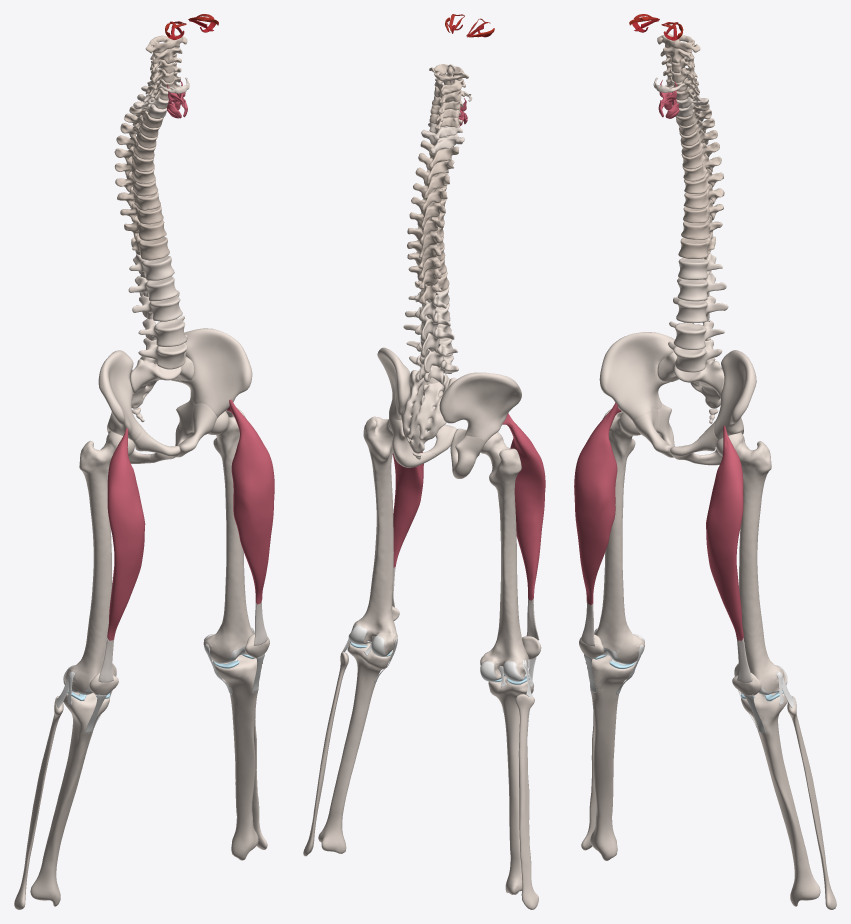
Rendered from musculoskeletal-meshopt.glb.
3 renders of one model, left to right at view 1: azimuth 30°, elevation 25°; view 2: azimuth 150°, elevation 25°; view 3: azimuth 330°, elevation 25°, orthographic. The views are drawn at different scales.
Visible parts, largest first — view 1: VH_M_femur_R, VH_M_rectus_femoris_L, VH_M_rectus_femoris_R, VH_M_femur_L, VH_M_tibia_L, VH_M_ilium_compact_bone_L, VH_M_tibia_R, VH_M_ilium_compact_bone_R, VH_M_sacrum, VH_M_fibula_R, VH_M_lumbar_vertebra_4, VH_M_pubis_compact_bone_L (+11 smaller); view 2: VH_M_femur_R, VH_M_femur_L, VH_M_ilium_compact_bone_R, VH_M_tibia_L, VH_M_rectus_femoris_R, VH_M_tibia_R, VH_M_sacrum, VH_M_fibula_R, VH_M_rectus_femoris_L, VH_M_ilium_compact_bone_L, VH_M_fibula_L, VH_M_ischium_compact_bone_L (+7 smaller); view 3: VH_M_femur_L, VH_M_rectus_femoris_R, VH_M_rectus_femoris_L, VH_M_femur_R, VH_M_ilium_compact_bone_R, VH_M_tibia_R, VH_M_tibia_L, VH_M_ilium_compact_bone_L, VH_M_sacrum, VH_M_fibula_L, VH_M_lumbar_vertebra_4, VH_M_lumbar_vertebra_5 (+10 smaller).
Part boxes in pixels (left/top/right/bottom): VH_M_femur_R: left=64, top=431, right=134, bottom=691; VH_M_rectus_femoris_L: left=227, top=399, right=274, bottom=604; VH_M_rectus_femoris_R: left=107, top=428, right=145, bottom=640; VH_M_femur_L: left=203, top=408, right=253, bottom=662; VH_M_tibia_L: left=213, top=655, right=261, bottom=860; VH_M_ilium_compact_bone_L: left=171, top=328, right=252, bottom=417; VH_M_tibia_R: left=30, top=692, right=109, bottom=906; VH_M_ilium_compact_bone_R: left=98, top=350, right=142, bottom=440; VH_M_sacrum: left=129, top=352, right=194, bottom=408; VH_M_fibula_R: left=14, top=696, right=63, bottom=909; VH_M_lumbar_vertebra_4: left=138, top=316, right=186, bottom=346; VH_M_pubis_compact_bone_L: left=176, top=403, right=217, bottom=457; VH_M_femur_R: left=480, top=432, right=528, bottom=677; VH_M_femur_L: left=352, top=416, right=397, bottom=654; VH_M_ilium_compact_bone_R: left=439, top=372, right=521, bottom=441; VH_M_tibia_L: left=318, top=642, right=391, bottom=853; VH_M_rectus_femoris_R: left=502, top=413, right=545, bottom=600; VH_M_tibia_R: left=488, top=676, right=533, bottom=894; VH_M_sacrum: left=401, top=369, right=456, bottom=453; VH_M_fibula_R: left=515, top=694, right=538, bottom=909; VH_M_rectus_femoris_L: left=392, top=452, right=423, bottom=567; VH_M_ilium_compact_bone_L: left=377, top=347, right=410, bottom=423; VH_M_fibula_L: left=303, top=651, right=348, bottom=856; VH_M_ischium_compact_bone_L: left=389, top=415, right=436, bottom=467; VH_M_femur_L: left=716, top=432, right=786, bottom=691; VH_M_rectus_femoris_R: left=574, top=402, right=621, bottom=604; VH_M_rectus_femoris_L: left=706, top=425, right=743, bottom=640; VH_M_femur_R: left=595, top=409, right=644, bottom=663; VH_M_ilium_compact_bone_R: left=599, top=332, right=674, bottom=420; VH_M_tibia_R: left=587, top=655, right=635, bottom=860; VH_M_tibia_L: left=741, top=692, right=820, bottom=906; VH_M_ilium_compact_bone_L: left=714, top=350, right=756, bottom=439; VH_M_sacrum: left=657, top=351, right=724, bottom=408; VH_M_fibula_L: left=787, top=696, right=836, bottom=909; VH_M_lumbar_vertebra_4: left=669, top=320, right=724, bottom=349; VH_M_lumbar_vertebra_5: left=668, top=339, right=722, bottom=372.
Bounding box in the file's own units: 0.4816 × 1.66 × 0.2166.
